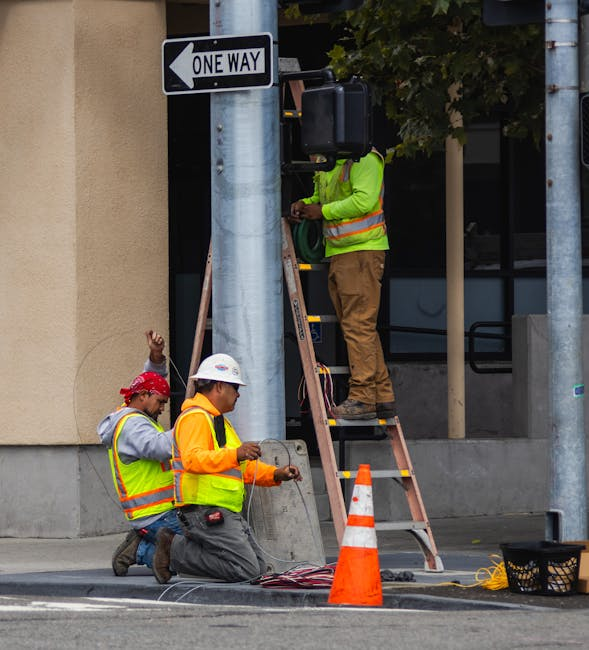traffic_cone: (326, 463, 384, 607)
